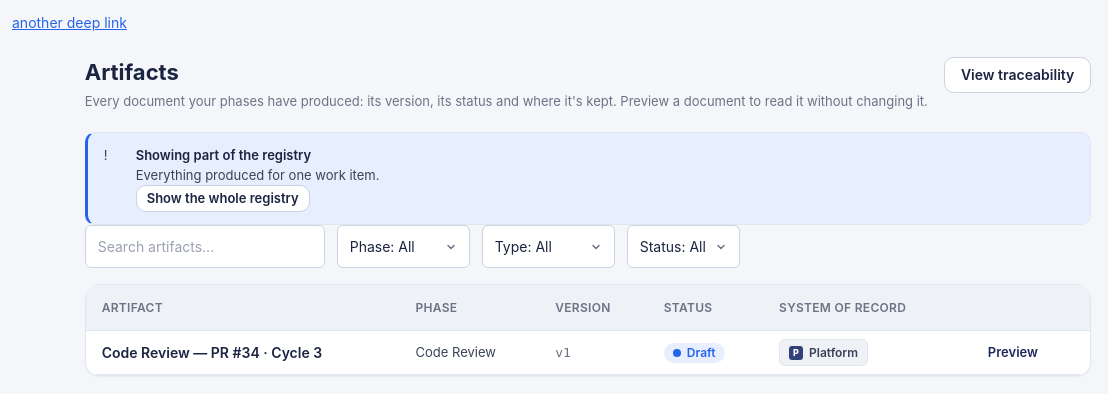
Test case: Show the whole registry › works for a work item's scope too
Click the link "Show the whole registry". click: (223, 198)
box: [136,185,310,212]
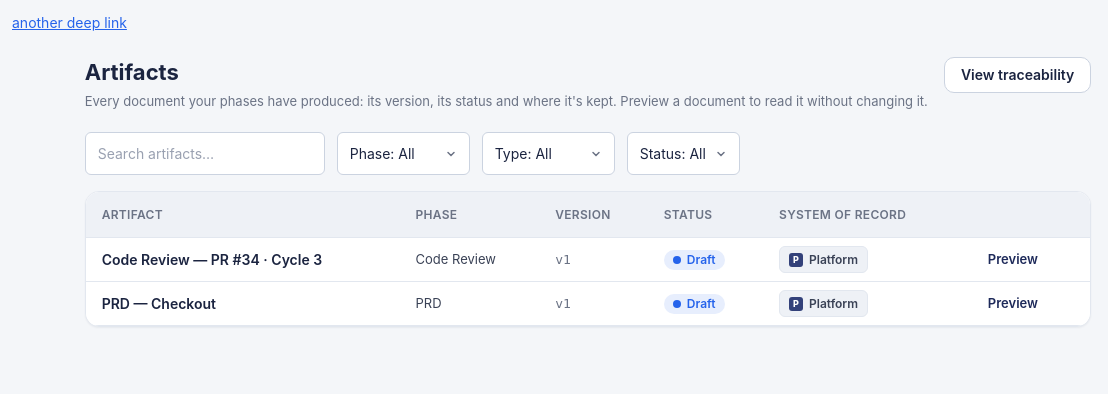
Expected: the text "PRD — Checkout" is shown, [102,294,216,312]
Expected: the text "Showing part of the registry" is gone
